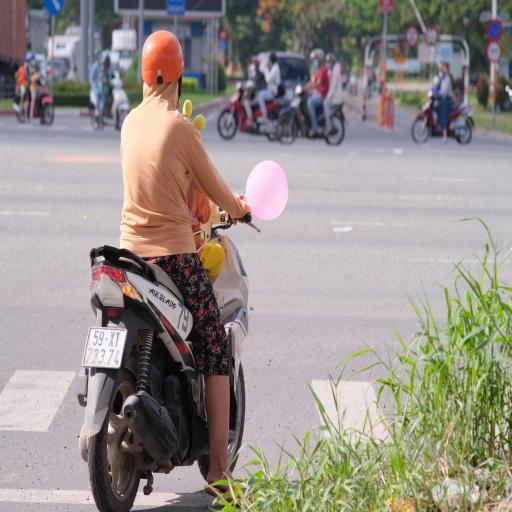place: (90, 329, 126, 376), (80, 344, 84, 346)
